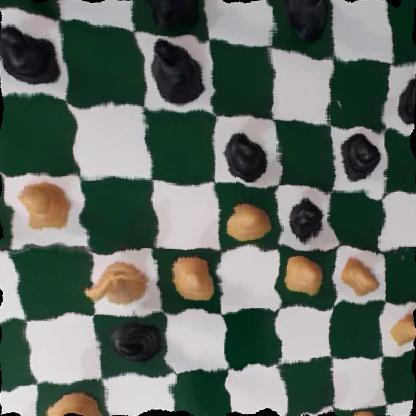black-bishop: (143, 34, 205, 108), (102, 314, 166, 368)
black-king: (132, 0, 203, 35)
black-pawn: (0, 20, 62, 92), (217, 126, 267, 182), (287, 192, 328, 244), (337, 133, 377, 182), (395, 73, 416, 127)
black-rook: (280, 0, 332, 42)
white-bishop: (41, 387, 106, 416)
white-king: (340, 405, 386, 416)
white-knight: (85, 258, 151, 308)
white-pawn: (13, 180, 78, 235), (169, 251, 217, 302), (222, 196, 271, 243), (284, 249, 326, 296), (340, 252, 376, 297), (391, 306, 416, 350)
